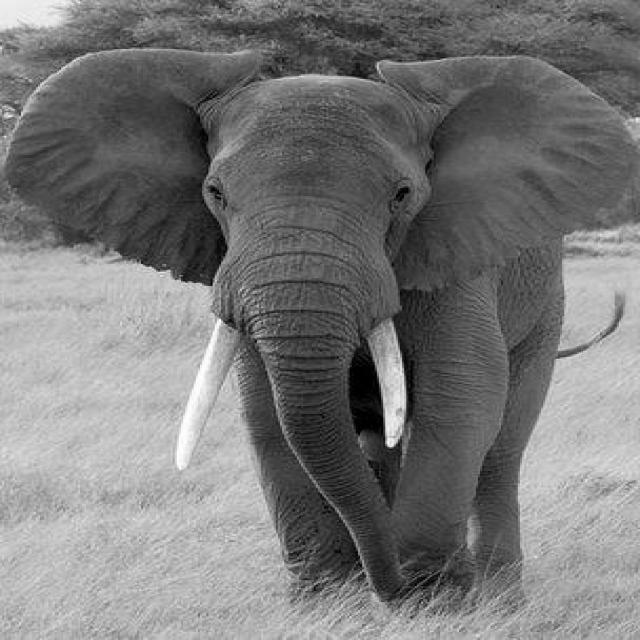Elephant: (2, 46, 638, 615)
